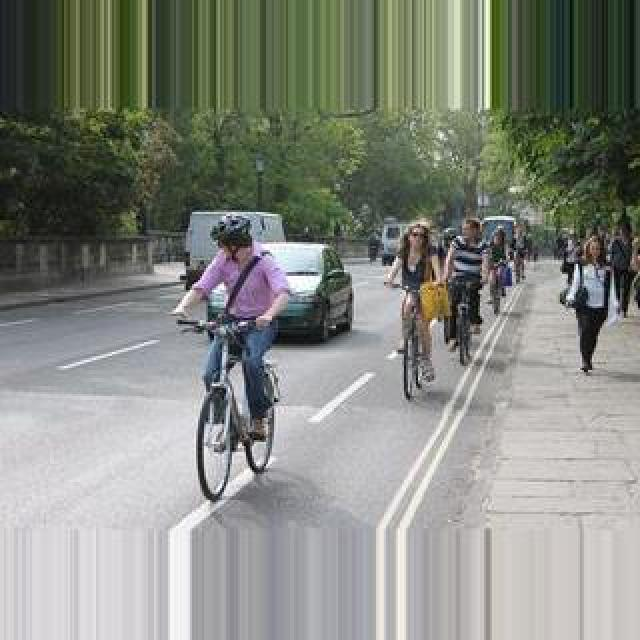Bus-Bike: (246, 242, 356, 342)
MC-Bike: (174, 216, 290, 434), (382, 220, 440, 380), (560, 238, 616, 376), (444, 216, 488, 354)
Person: (180, 316, 284, 504), (388, 290, 434, 398)
